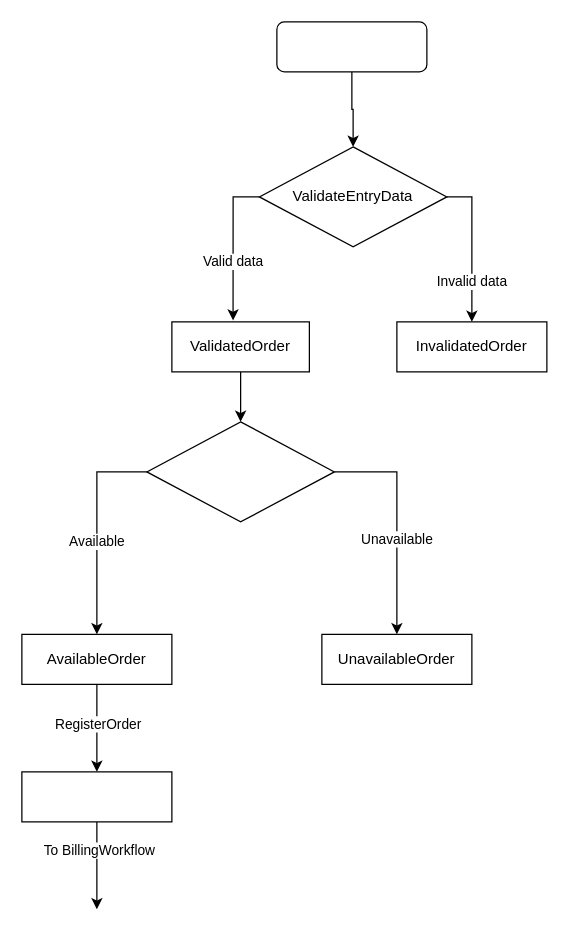
Some shapes in this 569 by 941 pixel diagram are drawn without their labels. The shapes that lost their labels are listed below. From the top down, each one's centre as x and y in pixels, then its label:
At [351,46]: "UnvalidatedOrder".
At [240,471]: "CheckForAvailability".
At [96,796]: "RegisteredOrder".
